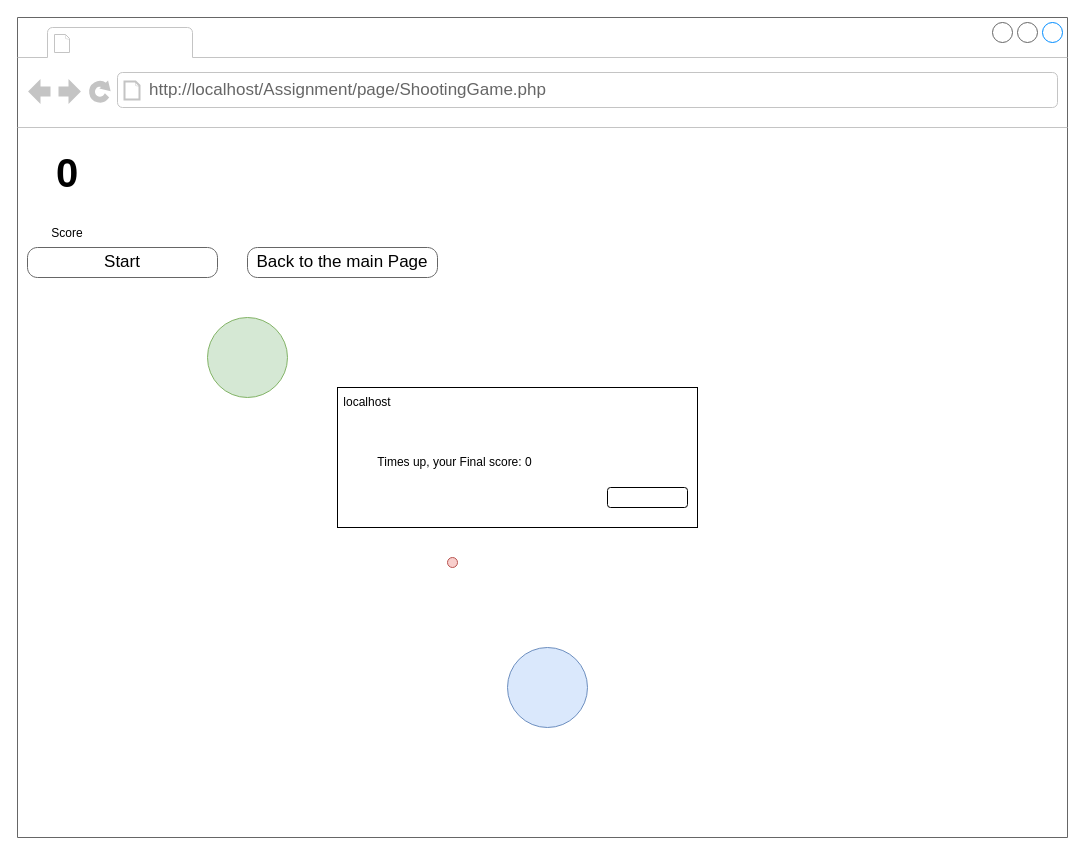
The diagram is 1085 pixels wide and 855 high, and some of its shapes have lost their labels. The shapes that lost their labels are listed below. From the top down, each one's box as (x1, y1, x2, y2) in pixels, then its label:
(76, 28, 188, 56): ShootingGame
(606, 486, 688, 508): ok
